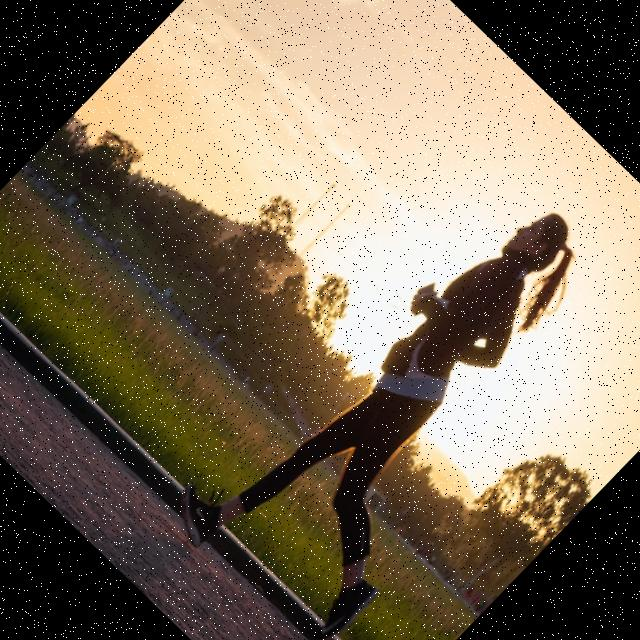Person: (157, 155, 640, 640)
